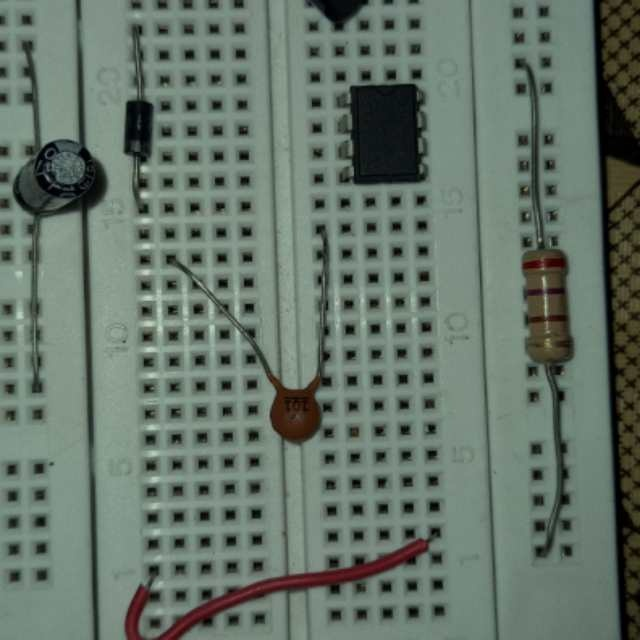capacitor: (12, 137, 97, 218), (263, 372, 325, 442)
resistor: (520, 248, 574, 364)
